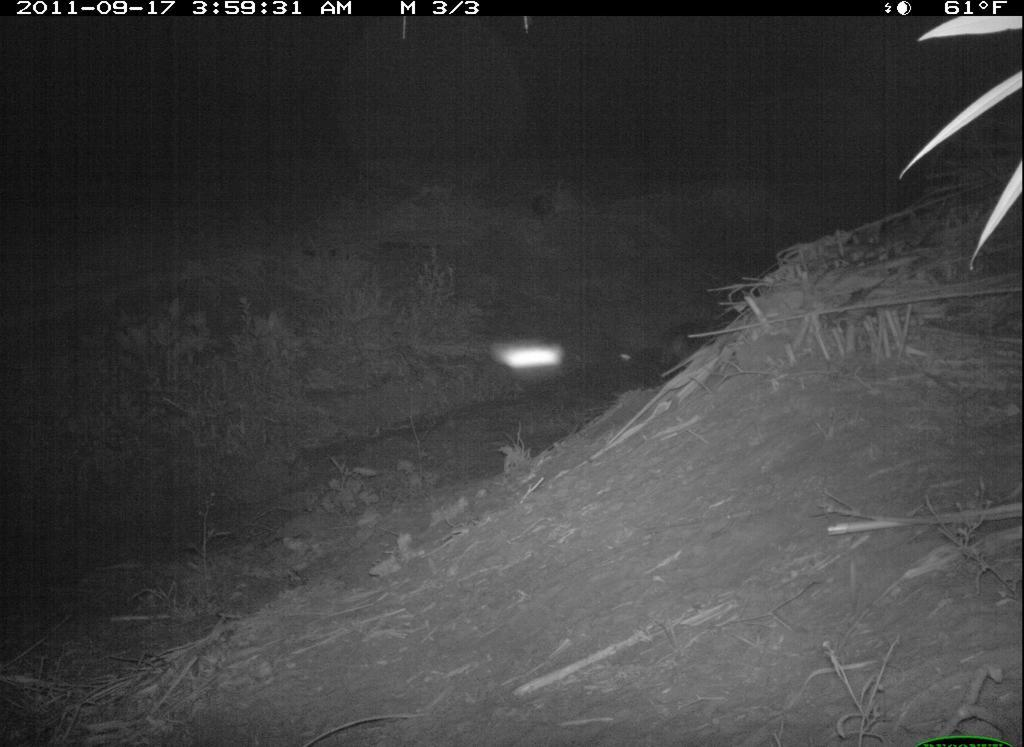coyote: (658, 313, 731, 373)
